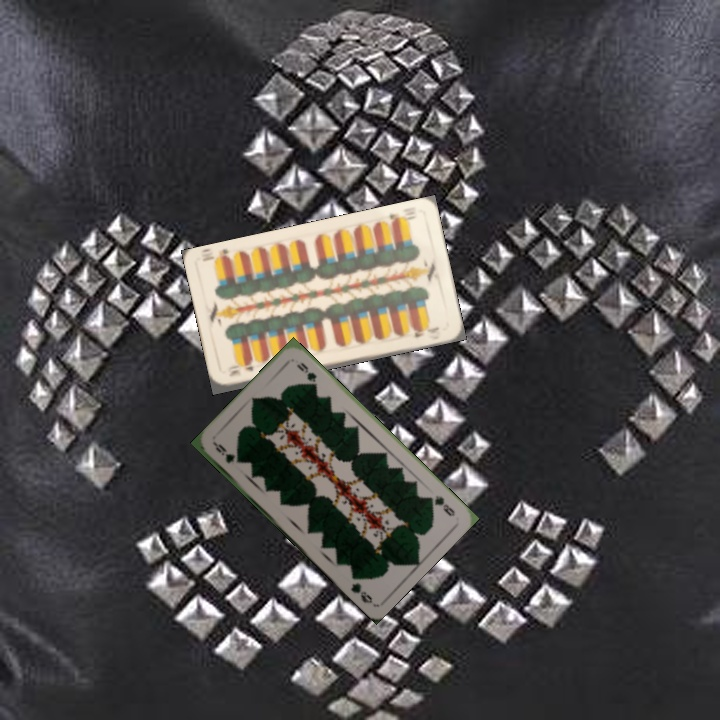E10: (385, 209, 418, 227), (225, 362, 256, 379)
G9: (424, 491, 457, 519), (210, 439, 243, 466)
